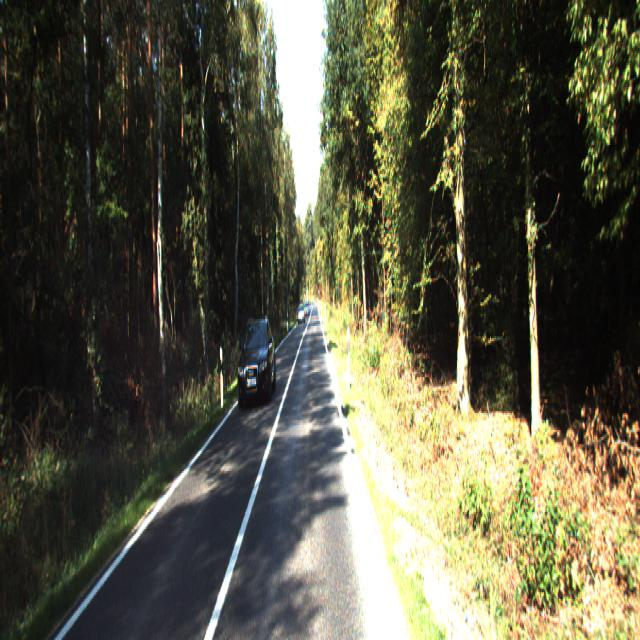Car: (237, 316, 277, 410)
